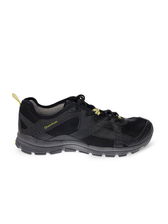shoes: (10, 92, 155, 159)
